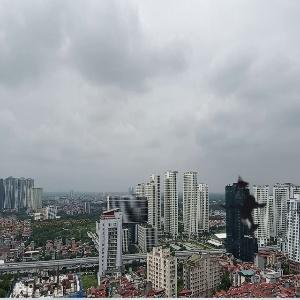drone: (192, 158, 299, 265)
